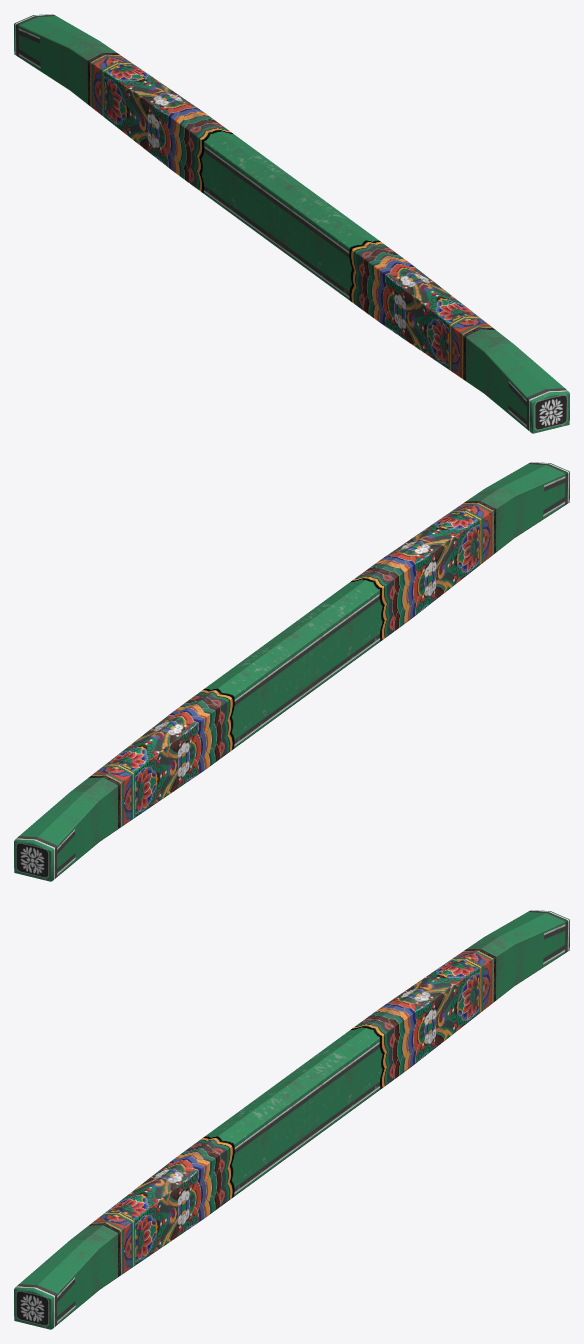
File: SM_Daedeulbo01d.fbx
The picture shows the model from 3 angles, top to bottom: view 1: azimuth 30°, elevation 25°; view 2: azimuth 150°, elevation 25°; view 3: azimuth 330°, elevation 25°; orthographic projection.
Parts seen in each view (by area): view 1: SM_Daedeulbo01d; view 2: SM_Daedeulbo01d; view 3: SM_Daedeulbo01d.
Part boxes in pixels (x1,y1,x2,y2): SM_Daedeulbo01d: (14, 14, 569, 433); SM_Daedeulbo01d: (14, 462, 569, 881); SM_Daedeulbo01d: (14, 910, 569, 1329).
Size of the model in its own units: 28.86 by 660 by 40.75.
Materials: 1 (1 with a texture image).
